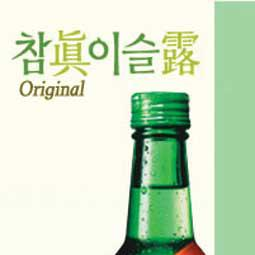soju: (113, 90, 209, 255)
